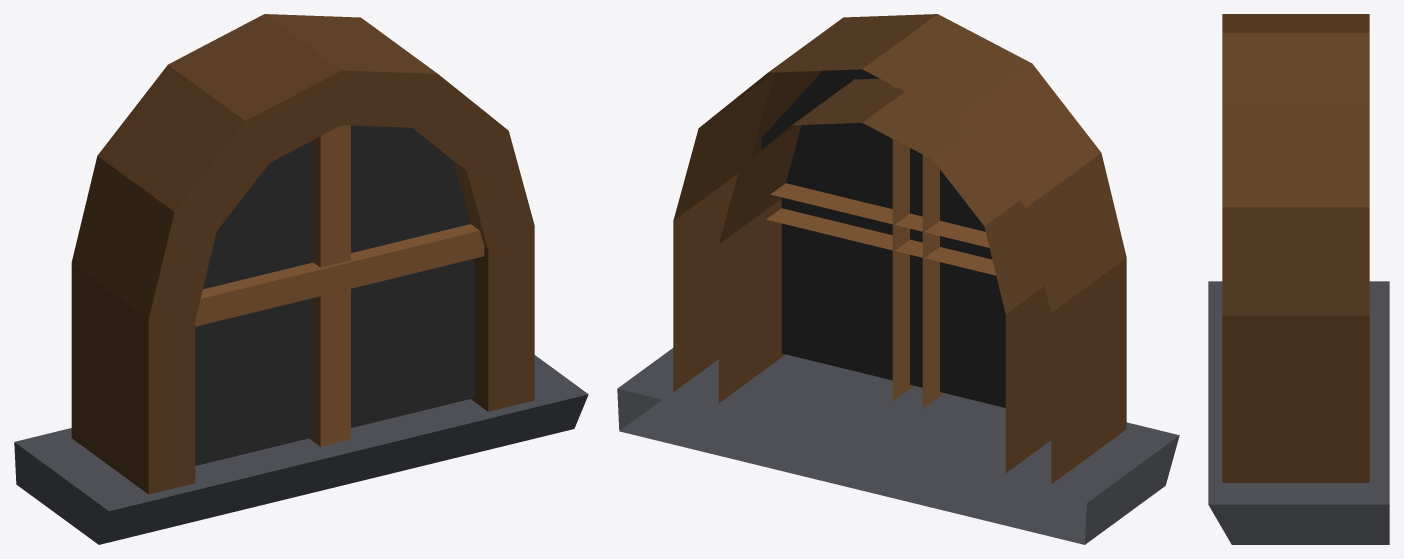
The model's file is Window.glb.
3 views of the same model, side by side, from view 1: azimuth 30°, elevation 25°; view 2: azimuth 150°, elevation 25°; view 3: azimuth 270°, elevation 25° (orthographic). The views are drawn at different scales.
Parts seen in each view (by area): view 1: Window; view 2: Window; view 3: Window.
Part boxes in pixels (x1=…): Window: x1=14, y1=14, x2=588, y2=544; Window: x1=617, y1=14, x2=1179, y2=544; Window: x1=1208, y1=14, x2=1389, y2=544.
Bounding box in the file's own units: 0.6392 × 0.5352 × 0.219.
